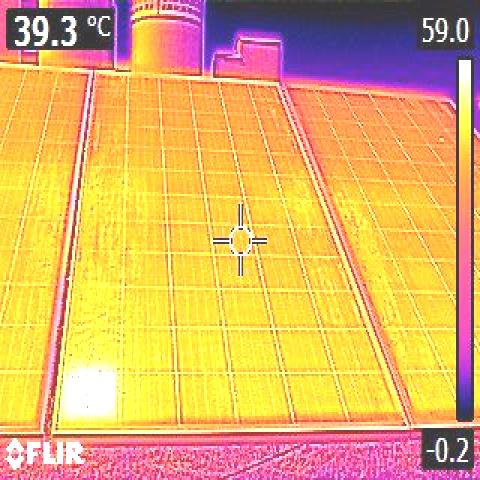fault: (63, 375, 115, 422)
